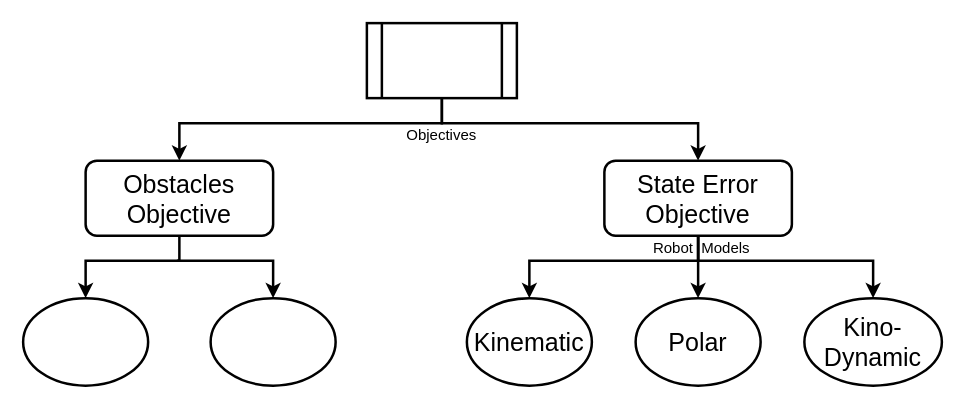
Image size: 964x408. Some labels were removed from this diagram. The shapes that lost their labels are listed below. From the top down, each one's centre as x and y in pixels, then its label:
the point at 441,60: NMPC
the point at 85,341: Static
the point at 272,341: Dynamic
